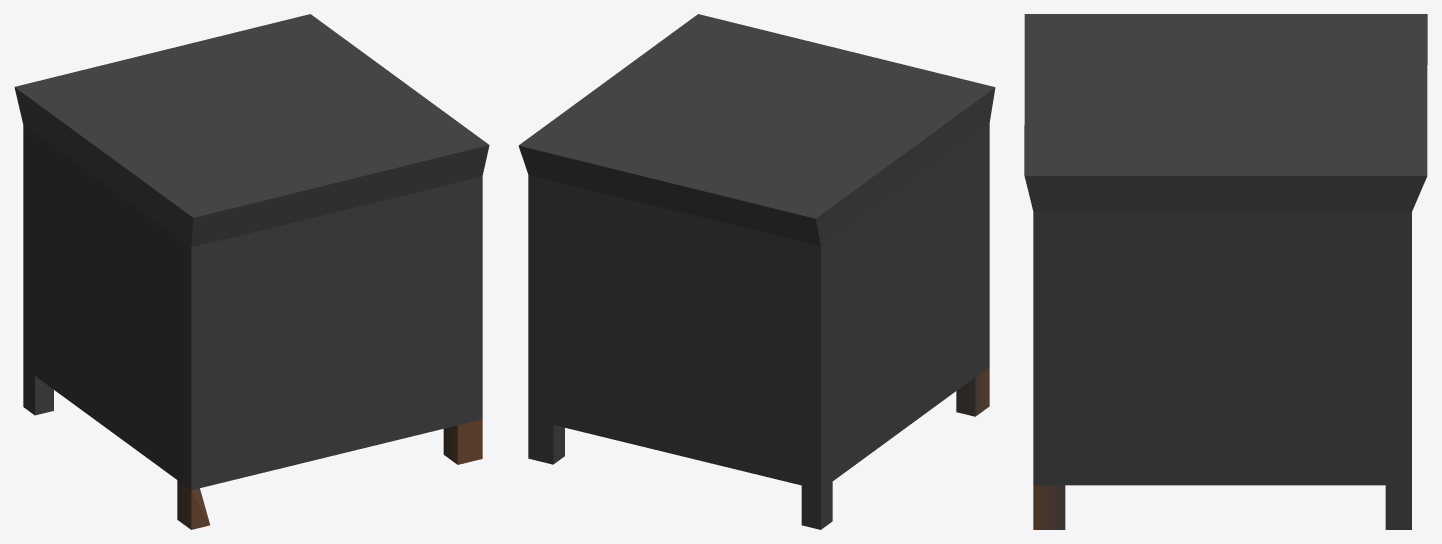
Rendered from leg_rest.fbx.
3 renders of one model, left to right at view 1: azimuth 30°, elevation 25°; view 2: azimuth 150°, elevation 25°; view 3: azimuth 270°, elevation 25°, orthographic. The views are drawn at different scales.
Parts seen in each view (by area): view 1: leg_rest_chair; view 2: leg_rest_chair; view 3: leg_rest_chair.
Boxes of the visible parts, x1,y1,x2,y2 form: leg_rest_chair: (14, 14, 489, 529); leg_rest_chair: (518, 14, 995, 529); leg_rest_chair: (1024, 14, 1427, 529).
Size of the model in its own units: 55.88 by 57.01 by 58.52.
